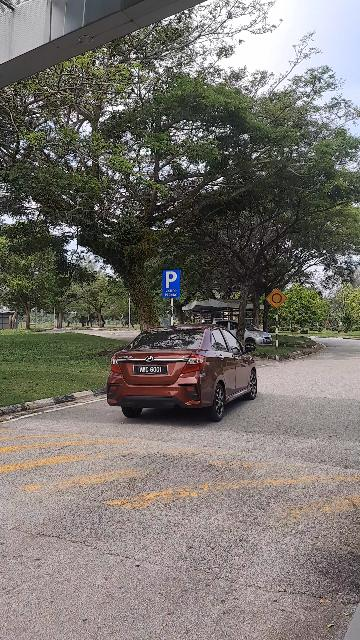License_Plate: (133, 366, 169, 377)
car: (108, 326, 263, 423)
